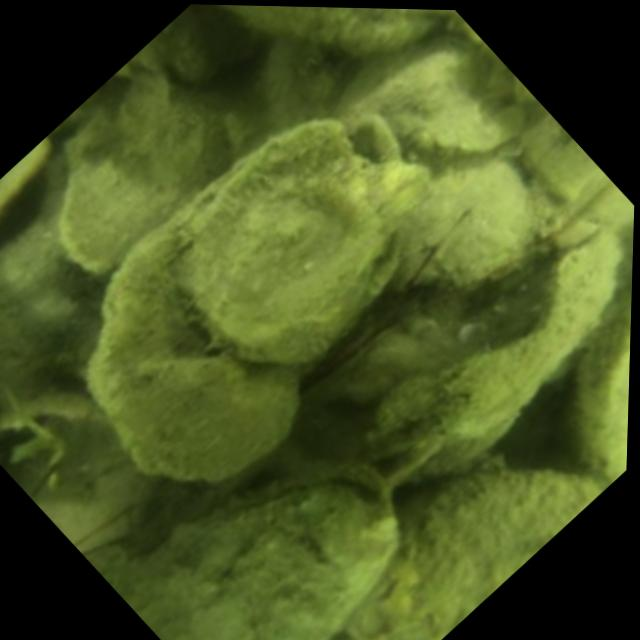Oyster-Indeterminate: (87, 233, 299, 483), (111, 482, 394, 640), (380, 461, 579, 640), (59, 94, 228, 271), (408, 155, 546, 284), (573, 266, 633, 475), (247, 5, 446, 58), (525, 123, 601, 200), (375, 374, 447, 450)
Oyster-Open: (188, 107, 422, 363)
